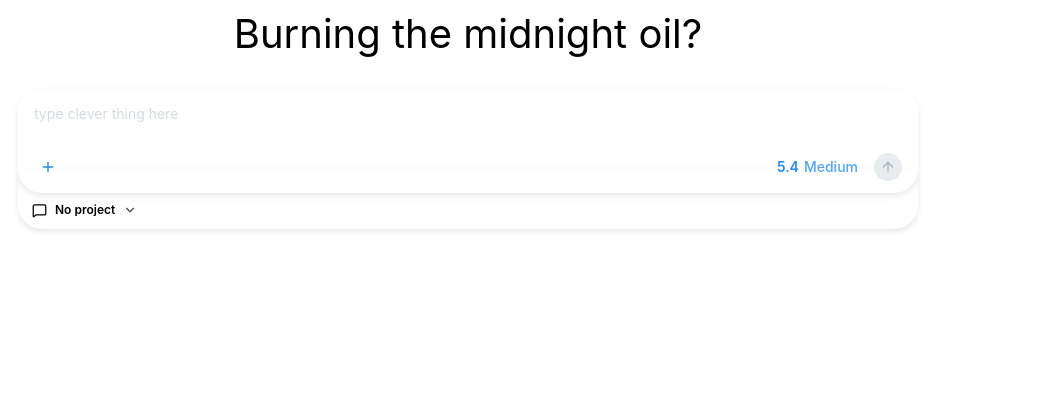
it: refills a cancelled initial defaults read without losing text or later overwriting an explicit draft choice
Type "Keep this draft" into the text box named "Message composer" at [468, 124], box 32,103 -> 904,145
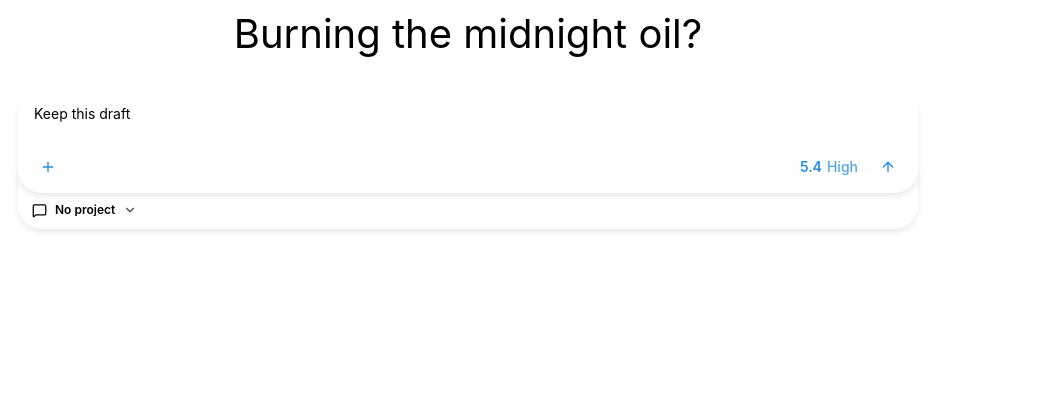
Now the button with aria-label "Model: gpt-5.4, high" is shown
Click the button with aria-label "Model: gpt-5.4, high" at [829, 167], box 790,154 -> 868,180
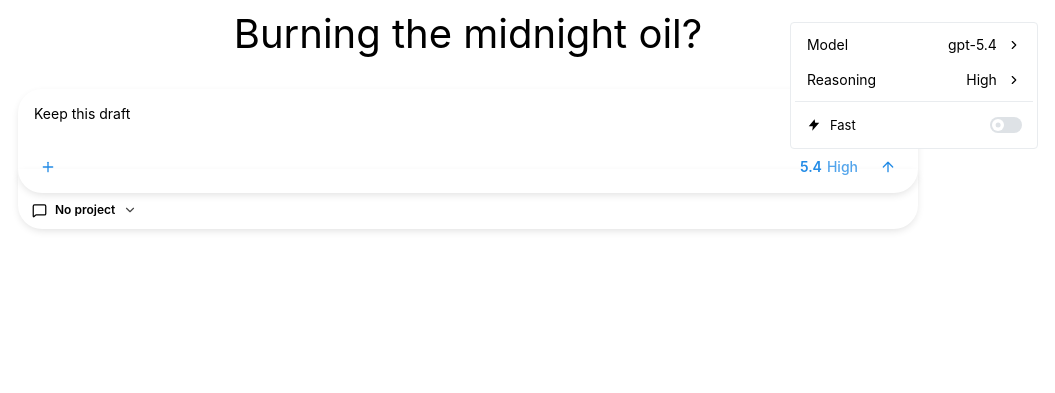
Now the menu item "Reasoning High" is shown
Click the menu item "Reasoning High" at [914, 80], box 795,62 -> 1033,97
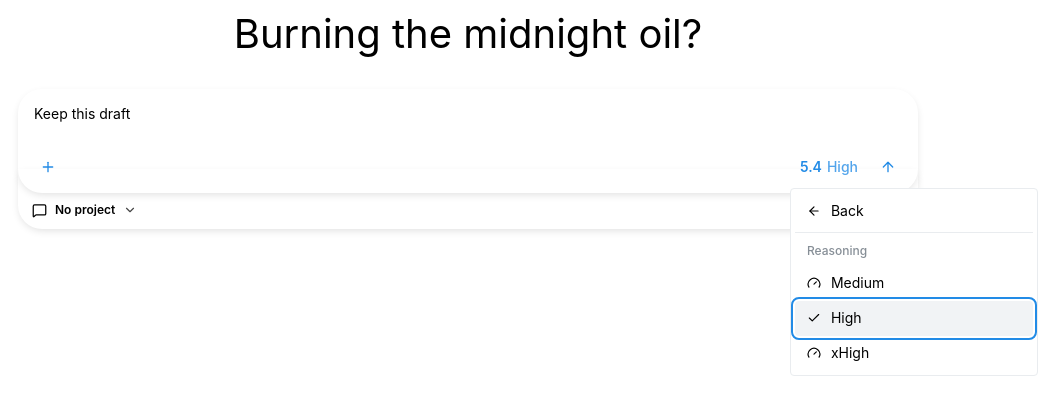
Now the menu item "xHigh" is shown
Click the menu item "xHigh" at [914, 353], box 795,335 -> 1033,370
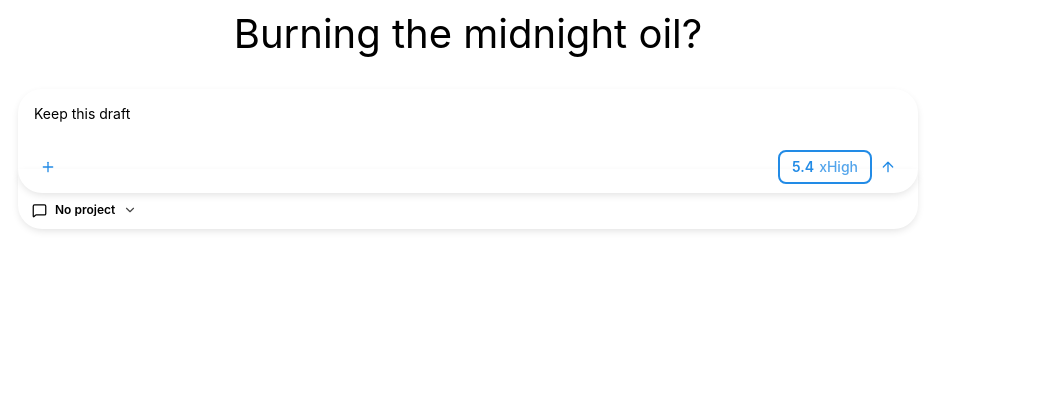
Now the button with aria-label "Model: gpt-5.4, xhigh" is shown, box 782,154 -> 868,180
